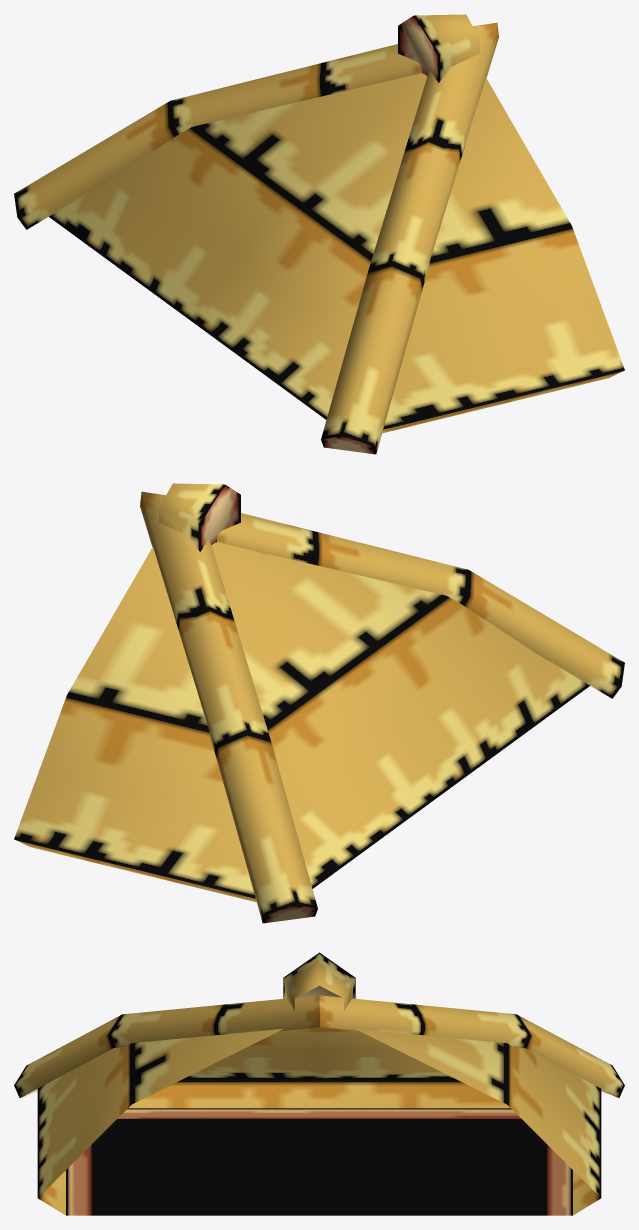
The model's file is arch_roof_corner_straw.FBX.
3 views of the same model, one above another, from view 1: azimuth 30°, elevation 25°; view 2: azimuth 150°, elevation 25°; view 3: azimuth 270°, elevation 25° (orthographic). The views are drawn at different scales.
Visible parts, largest first — view 1: arch_roof_corner_straw; view 2: arch_roof_corner_straw; view 3: arch_roof_corner_straw.
Boxes of the visible parts, box(x1,y1,x2,y2) form: arch_roof_corner_straw: box(14, 14, 624, 454); arch_roof_corner_straw: box(14, 483, 624, 923); arch_roof_corner_straw: box(14, 952, 624, 1215).
Bounding box in the file's own units: 3 × 2.35 × 5.42.
1 material, 1 textured.
